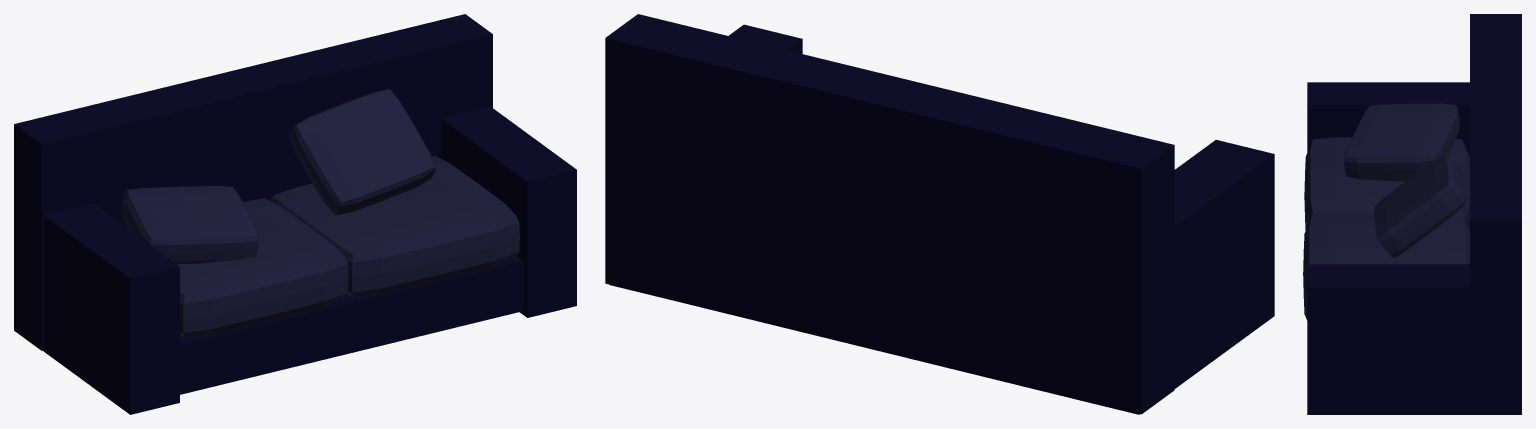
File: sofa.fbx
The picture shows the model from 3 angles, left to right: view 1: azimuth 30°, elevation 25°; view 2: azimuth 150°, elevation 25°; view 3: azimuth 270°, elevation 25°; orthographic projection. The views are drawn at different scales.
Visible parts, largest first — view 1: sofa completo, almoadon grande 2, almohadon grande, almohada chica 2, almohada chica; view 2: sofa completo; view 3: sofa completo, almohada chica, almoadon grande 2, almohada chica 2, almohadon grande.
Part boxes in pixels (left/top/right/bottom): sofa completo: left=14, top=14, right=576, bottom=414; almoadon grande 2: left=270, top=156, right=519, bottom=298; almohadon grande: left=177, top=198, right=348, bottom=338; almohada chica 2: left=289, top=89, right=435, bottom=215; almohada chica: left=122, top=186, right=258, bottom=264; sofa completo: left=605, top=14, right=1274, bottom=414; sofa completo: left=1307, top=14, right=1521, bottom=414; almohada chica: left=1344, top=103, right=1460, bottom=181; almoadon grande 2: left=1303, top=214, right=1469, bottom=320; almohada chica 2: left=1374, top=153, right=1465, bottom=257; almohadon grande: left=1304, top=137, right=1469, bottom=230.
Size of the model in its own units: 262 by 115 by 117.
